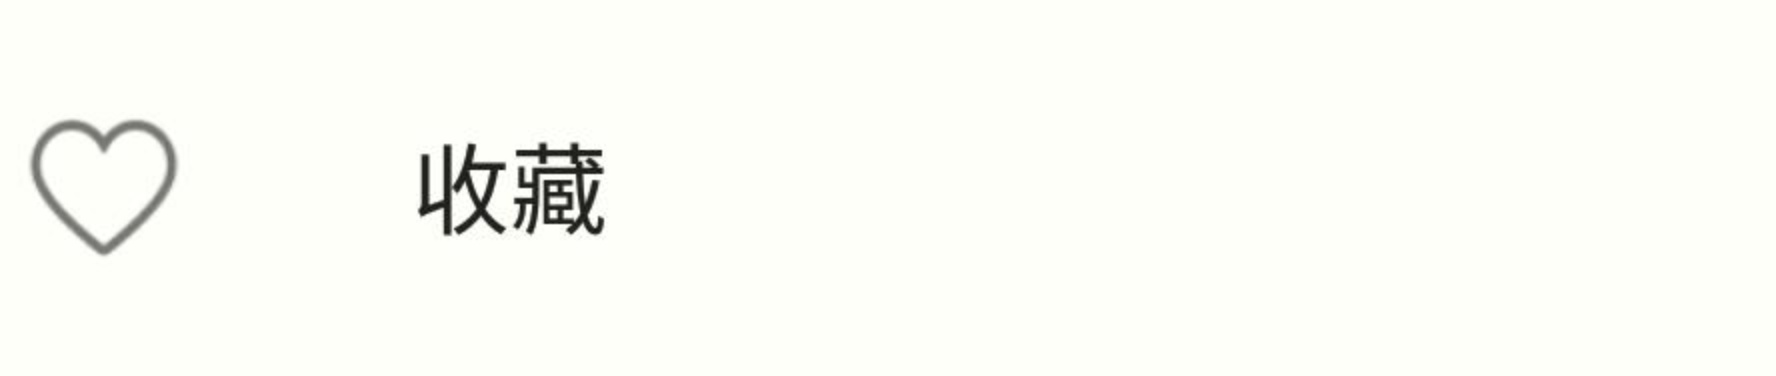CheckedTextView: (1, 1, 1775, 375)
